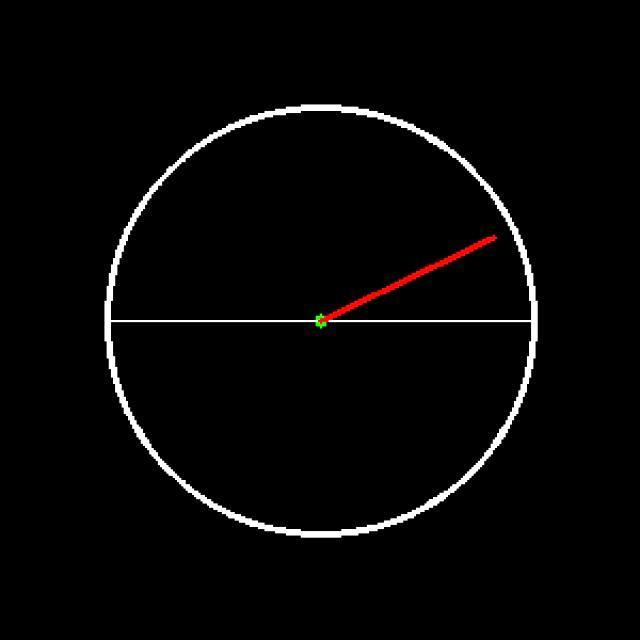Needle_Tip: (463, 214, 506, 267)
Needle_base: (292, 290, 349, 355)
